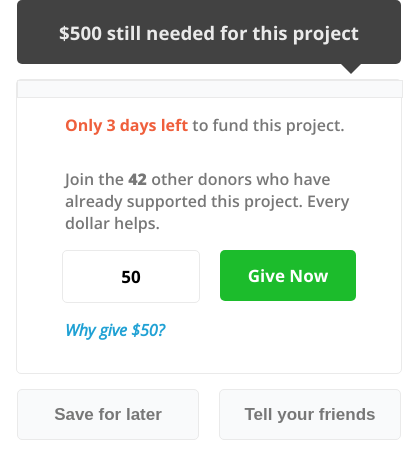
Test: test events › donate button subtracts $50 from amount needed and increases donors by one
Click the button "Give Now". click: (288, 276)
box: [220, 250, 356, 301]
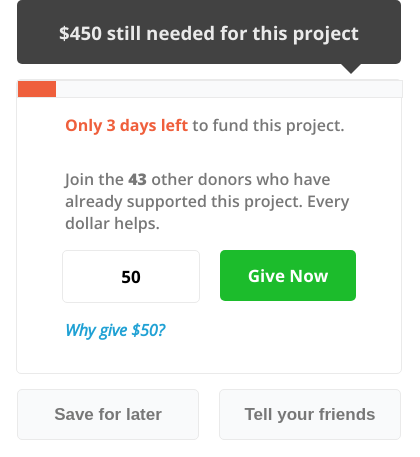
Check: the heading "$500 still needed for this project" reads "$450 still needed for this project", box [59, 20, 359, 44]
Check: the text "42" reads "43", box [128, 168, 147, 190]
